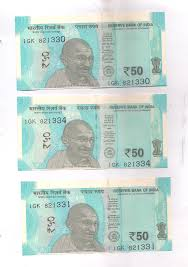fifty: (23, 112, 159, 160), (19, 31, 154, 78), (29, 199, 160, 245)
